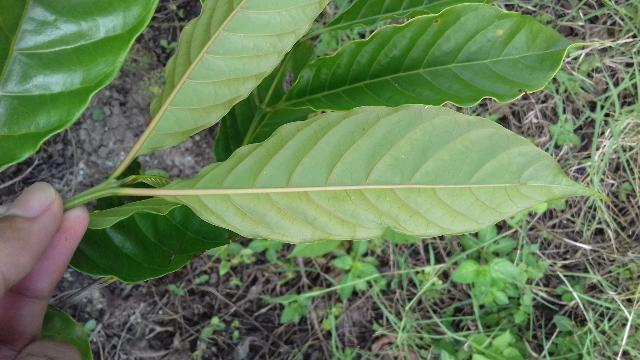healthy: (121, 102, 616, 246)
